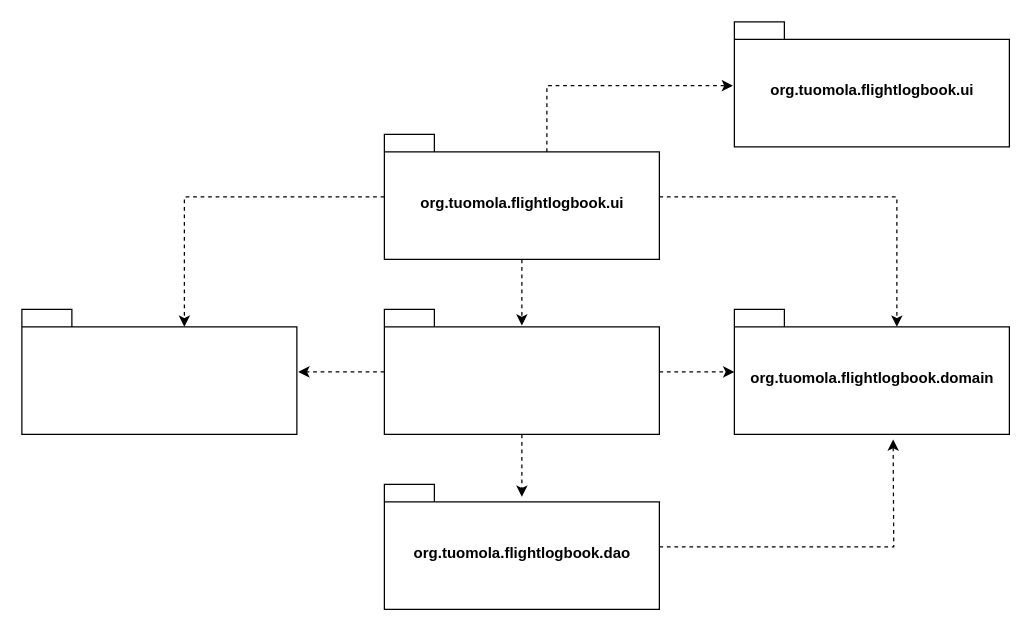
Image size: 1031x631. Some labels were removed from this diagram. The centre of each missing label's shape, as x and y in pixels:
"org.tuomola.flightlogbook.dto" goes at point 159,371.
"org.tuomola.flightlogbook.service" goes at point 521,371.
